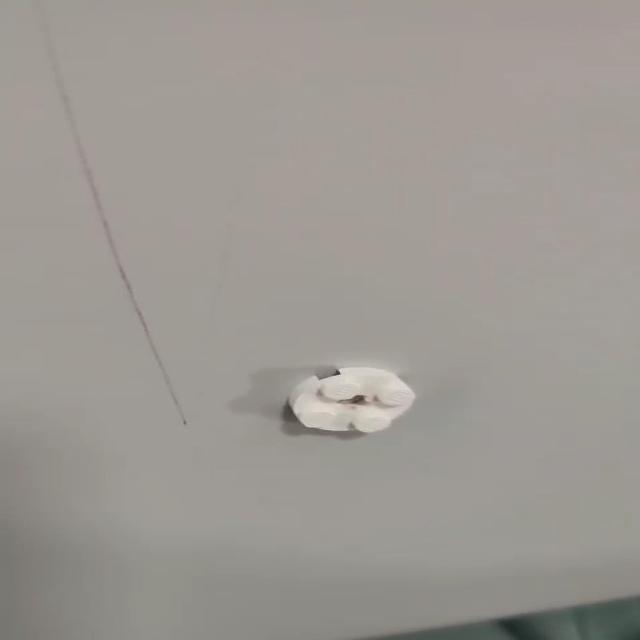S2x2x0: (284, 365, 416, 434)
